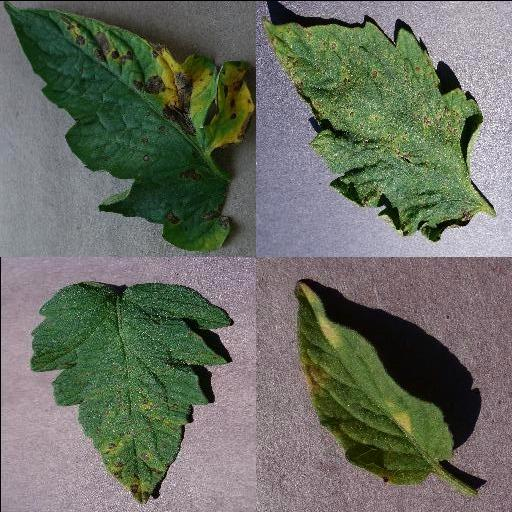Early Blight: (4, 0, 256, 249)
Leaf Mold: (294, 279, 454, 483)
Septoria: (259, 18, 483, 242), (28, 279, 234, 503)
